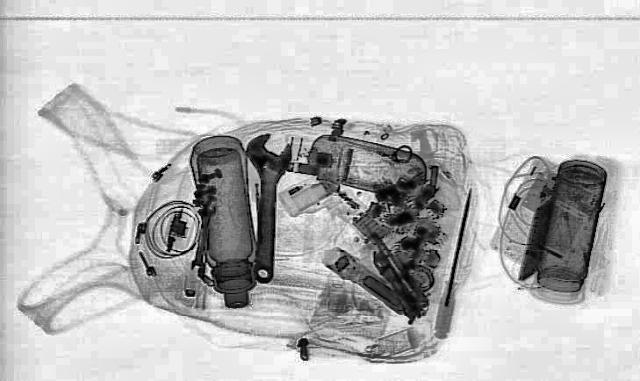Wrench: (233, 132, 293, 282)
